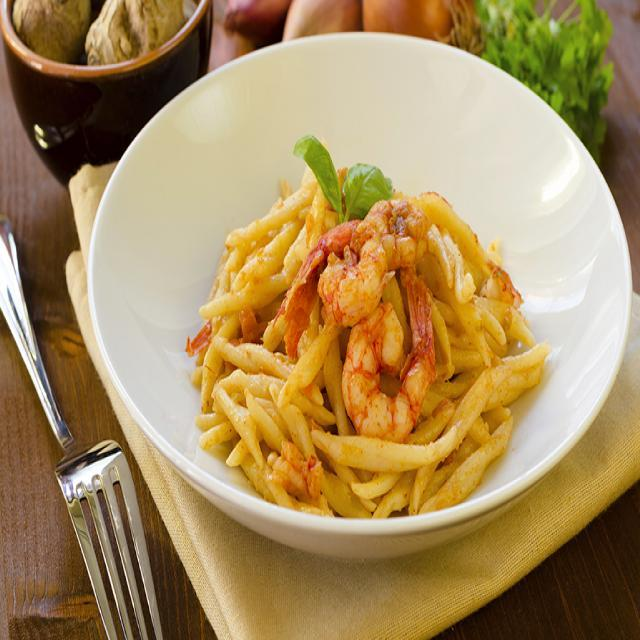Pasta al ragu: (176, 102, 572, 524)
